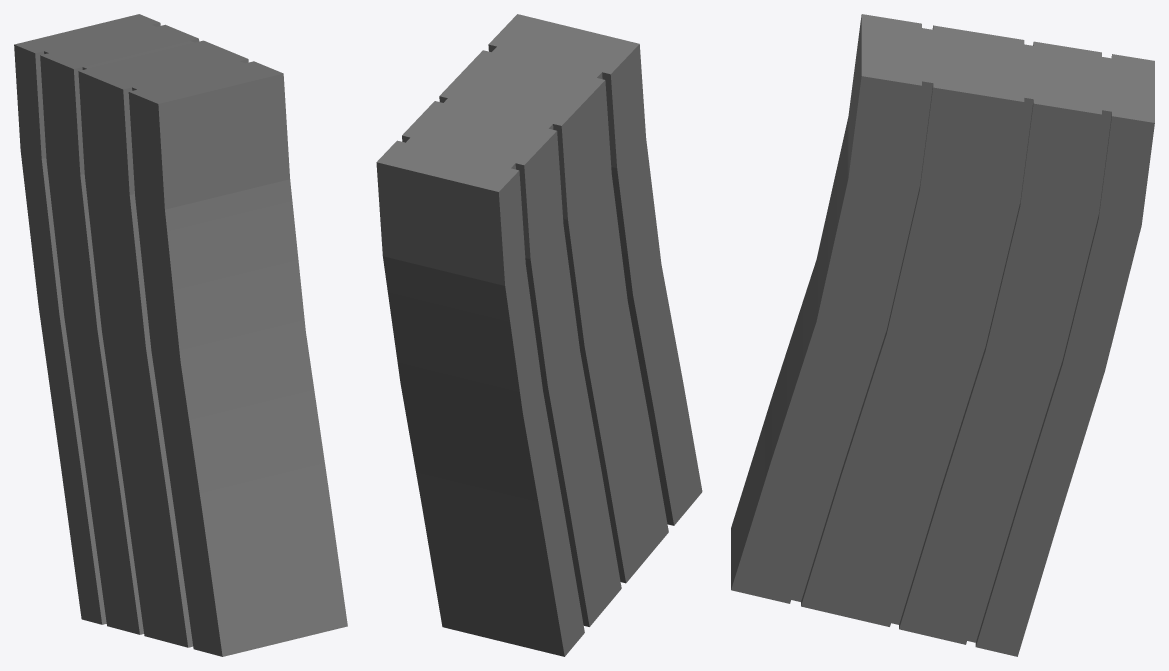
The model's file is Obj_AmmoClip.fbx.
The picture shows the model from 3 angles, left to right: view 1: azimuth 30°, elevation 25°; view 2: azimuth 150°, elevation 25°; view 3: azimuth 270°, elevation 25°; orthographic projection. The views are drawn at different scales.
Parts seen in each view (by area): view 1: Obj_AmmoClip; view 2: Obj_AmmoClip; view 3: Obj_AmmoClip.
Part boxes in pixels (x1,y1,x2,y2): Obj_AmmoClip: [14, 14, 347, 656]; Obj_AmmoClip: [376, 14, 702, 656]; Obj_AmmoClip: [731, 14, 1154, 656].
Size of the model in its own units: 0.0578 by 0.2518 by 0.1665.
